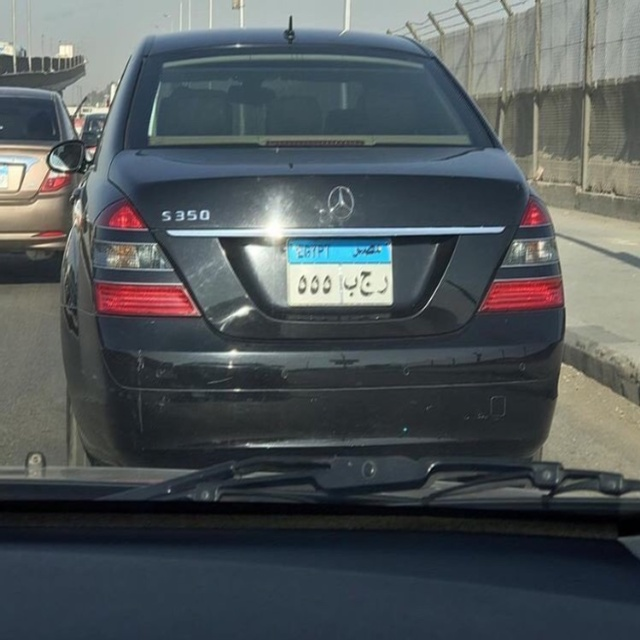License Plate: (284, 233, 394, 309)
